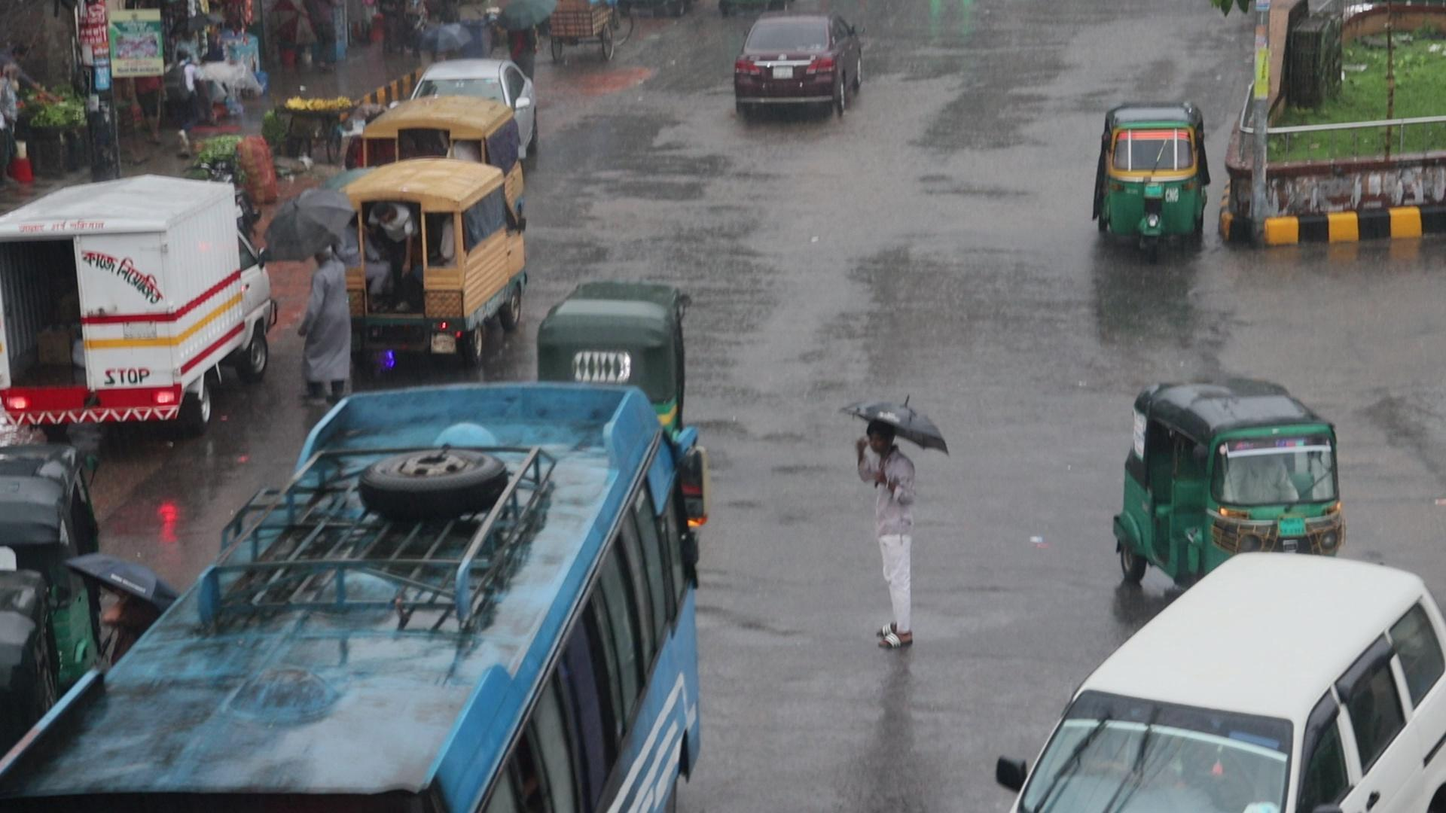Bus: (57, 379, 706, 813)
Car: (995, 550, 1446, 813), (734, 10, 863, 115)
Truck: (305, 158, 524, 362)
